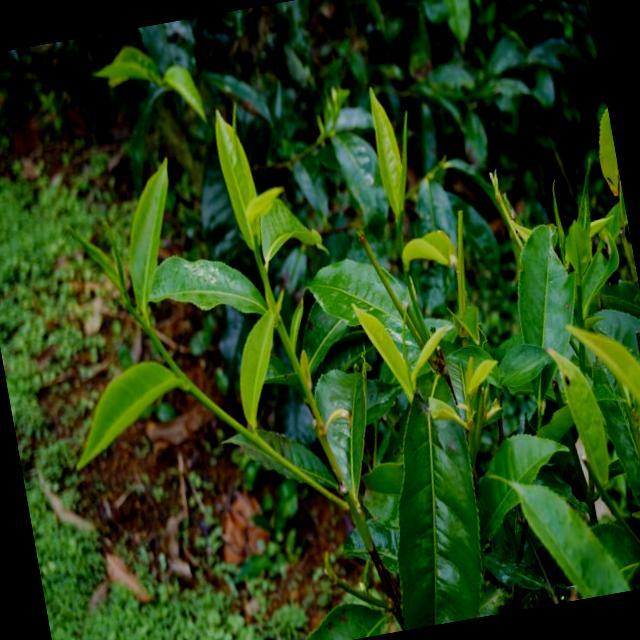Stem: (148, 329, 163, 351), (253, 247, 263, 267), (395, 223, 404, 242)
